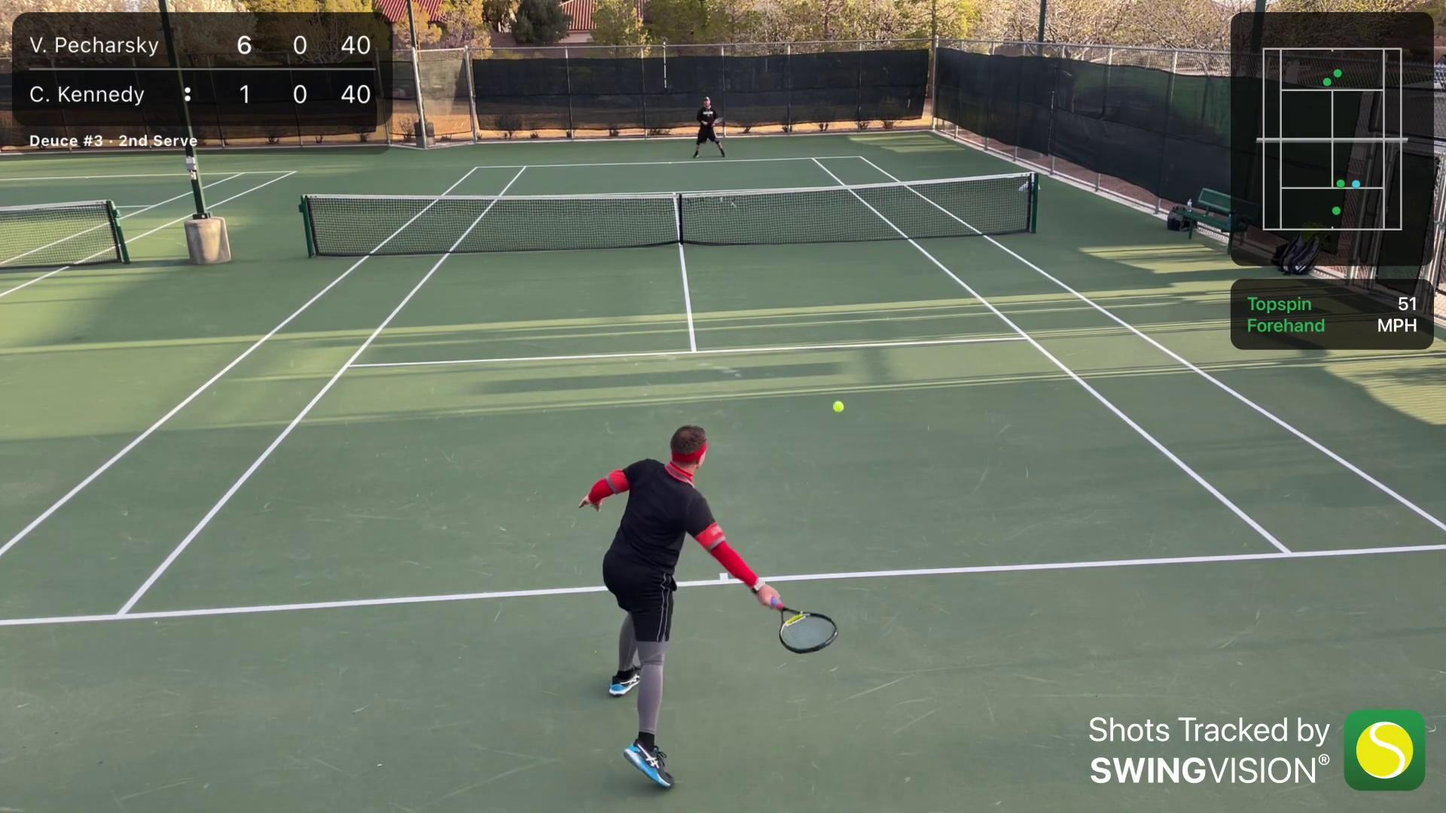ball: (833, 403, 844, 417)
